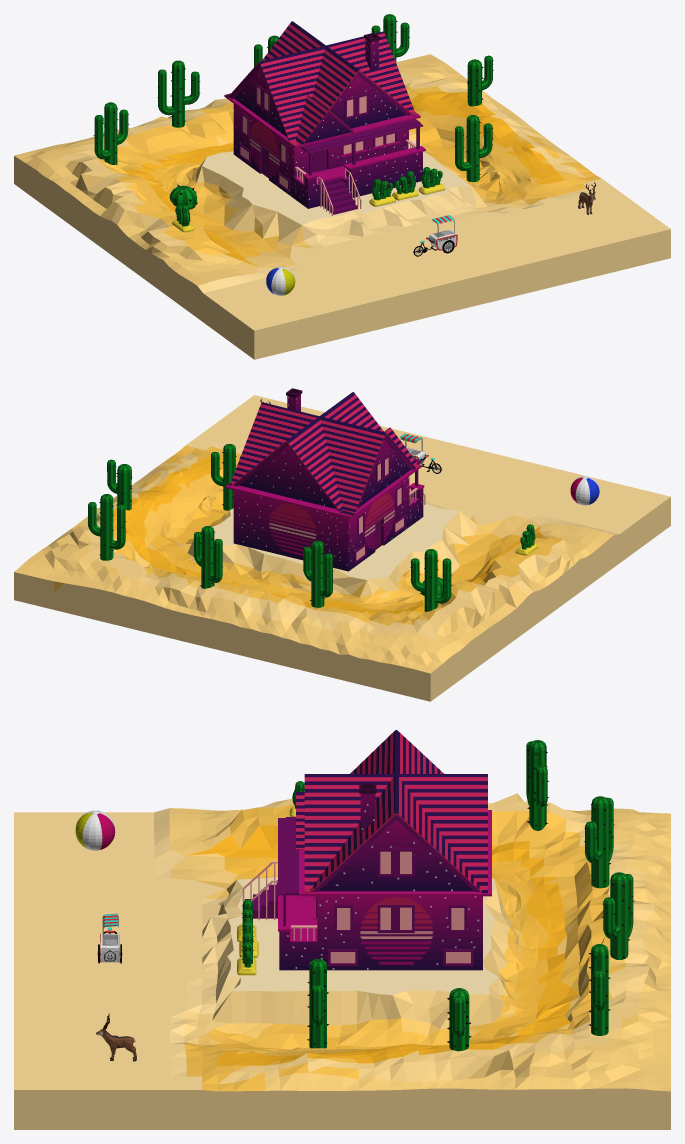
The picture shows the model from 3 angles, top to bottom: view 1: azimuth 30°, elevation 25°; view 2: azimuth 150°, elevation 25°; view 3: azimuth 270°, elevation 25°; orthographic projection. The views are drawn at different scales.
Parts seen in each view (by area): view 1: Cube.001, Cube.156, Cylinder.037, Cylinder.044, Cylinder.045, Cylinder.038, Cylinder.042, VEHICLES_SNOWBAL_BIKE, OBJRANDOM_BEACHBALL, Cylinder.039, Cylinder.041, Sphere.023 (+1 smaller); view 2: Cube.001, Cube.156, Cylinder.042, Cylinder.045, Cylinder.044, Cylinder.043, Cylinder.037, Cylinder.038, OBJRANDOM_BEACHBALL, VEHICLES_SNOWBAL_BIKE; view 3: Cube.001, Cube.156, Cylinder.043, Cylinder.044, Cylinder.045, Cylinder.042, Cylinder.037, OBJRANDOM_BEACHBALL, Cylinder.038, VEHICLES_SNOWBAL_BIKE, Cylinder.041, ANIMAL_VENADO.
Boxes of the visible parts, x1,y1,x2,y2 form: Cube.001: (14, 54, 670, 359); Cube.156: (224, 21, 425, 215); Cylinder.037: (454, 115, 493, 182); Cylinder.044: (157, 60, 200, 127); Cylinder.045: (93, 102, 129, 164); Cylinder.038: (467, 55, 493, 106); Cylinder.042: (371, 14, 409, 62); VEHICLES_SNOWBAL_BIKE: (413, 215, 457, 256); OBJRANDOM_BEACHBALL: (266, 266, 295, 295); Cylinder.039: (369, 179, 395, 206); Cylinder.041: (418, 167, 445, 194); Sphere.023: (169, 184, 197, 209); Cube.001: (14, 395, 670, 701); Cube.156: (225, 388, 425, 571); Cylinder.042: (88, 494, 126, 560); Cylinder.045: (410, 549, 452, 611); Cylinder.044: (303, 540, 333, 607); Cylinder.043: (193, 526, 222, 588); Cylinder.037: (211, 444, 240, 510); Cylinder.038: (107, 459, 131, 510); OBJRANDOM_BEACHBALL: (570, 476, 599, 505); VEHICLES_SNOWBAL_BIKE: (400, 433, 441, 473); Cube.001: (14, 793, 670, 1129); Cube.156: (242, 730, 491, 970); Cylinder.043: (602, 872, 634, 959); Cylinder.044: (584, 796, 614, 888); Cylinder.045: (526, 740, 549, 830); Cylinder.042: (588, 944, 610, 1035); Cylinder.037: (307, 959, 329, 1048); OBJRANDOM_BEACHBALL: (75, 810, 115, 850); Cylinder.038: (447, 988, 471, 1051); VEHICLES_SNOWBAL_BIKE: (97, 913, 122, 963); Cylinder.041: (237, 932, 256, 975); ANIMAL_VENADO: (96, 1013, 136, 1061).
Size of the model in its own units: 4002 by 1627 by 4001.
36 materials, 4 textured.
